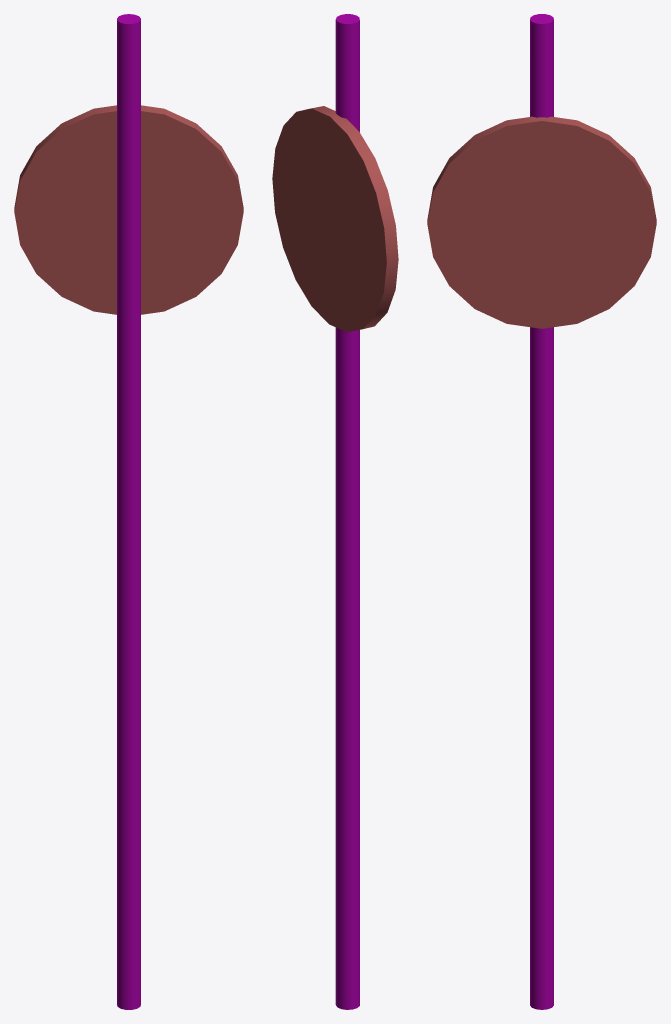
The model's file is CartelEstacionar.fbx.
The picture shows the model from 3 angles, left to right: view 1: azimuth 90°, elevation 25°; view 2: azimuth 210°, elevation 25°; view 3: azimuth 270°, elevation 25°; orthographic projection.
Parts seen in each view (by area): view 1: pCylinder2, pCylinder1; view 2: pCylinder2, pCylinder1; view 3: pCylinder2, pCylinder1.
Part boxes in pixels (x1,y1,x2,y2): pCylinder2: [14, 105, 243, 314]; pCylinder1: [117, 14, 140, 1009]; pCylinder2: [272, 106, 398, 332]; pCylinder1: [335, 14, 359, 1009]; pCylinder2: [427, 116, 656, 328]; pCylinder1: [530, 14, 553, 1009].
Size of the model in its own units: 0.2915 by 9.5 by 2.
